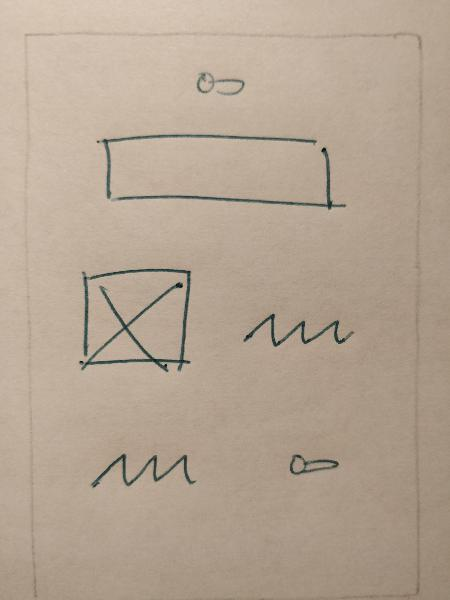image: (65, 260, 204, 380)
switch: (268, 442, 365, 484), (184, 64, 265, 107)
text: (68, 444, 207, 491), (237, 303, 364, 353)
text_input: (83, 128, 357, 217)
